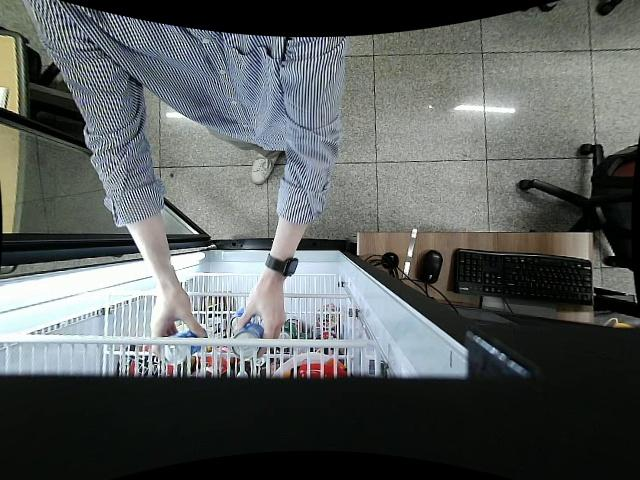00_hand: (149, 298, 209, 355), (235, 293, 286, 359)
15_letsbe: (165, 329, 201, 361), (236, 325, 263, 359)
